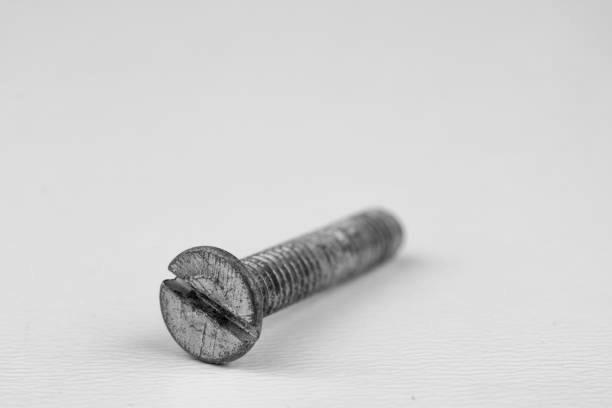screw: (159, 245, 262, 367)
